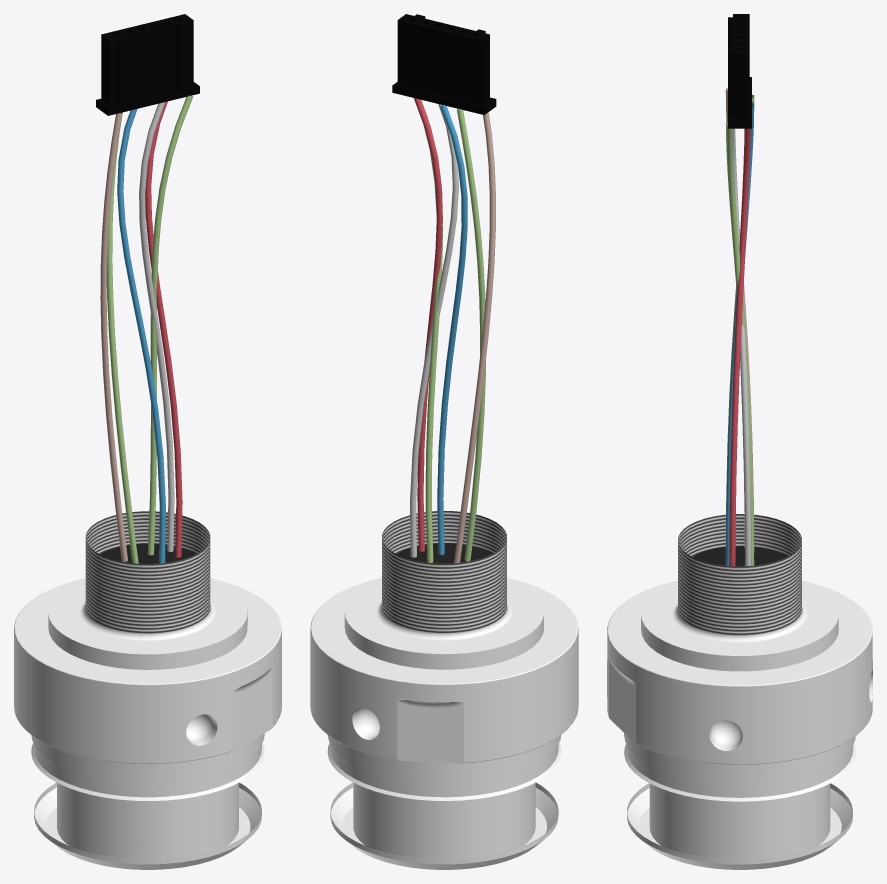
The model's file is fili.glb.
3 views of the same model, side by side, from view 1: azimuth 30°, elevation 25°; view 2: azimuth 150°, elevation 25°; view 3: azimuth 270°, elevation 25° (orthographic).
Visible parts, largest first — view 1: 04.Corpo_Valv..003; view 2: 04.Corpo_Valv..003; view 3: 04.Corpo_Valv..003.
Boxes of the visible parts, x1=… form: 04.Corpo_Valv..003: x1=14, y1=14, x2=281, y2=869; 04.Corpo_Valv..003: x1=310, y1=14, x2=578, y2=869; 04.Corpo_Valv..003: x1=607, y1=14, x2=872, y2=869.
Size of the model in its own units: 0.8387 by 2.76 by 0.8392.
Materials: 9 (2 with a texture image).
